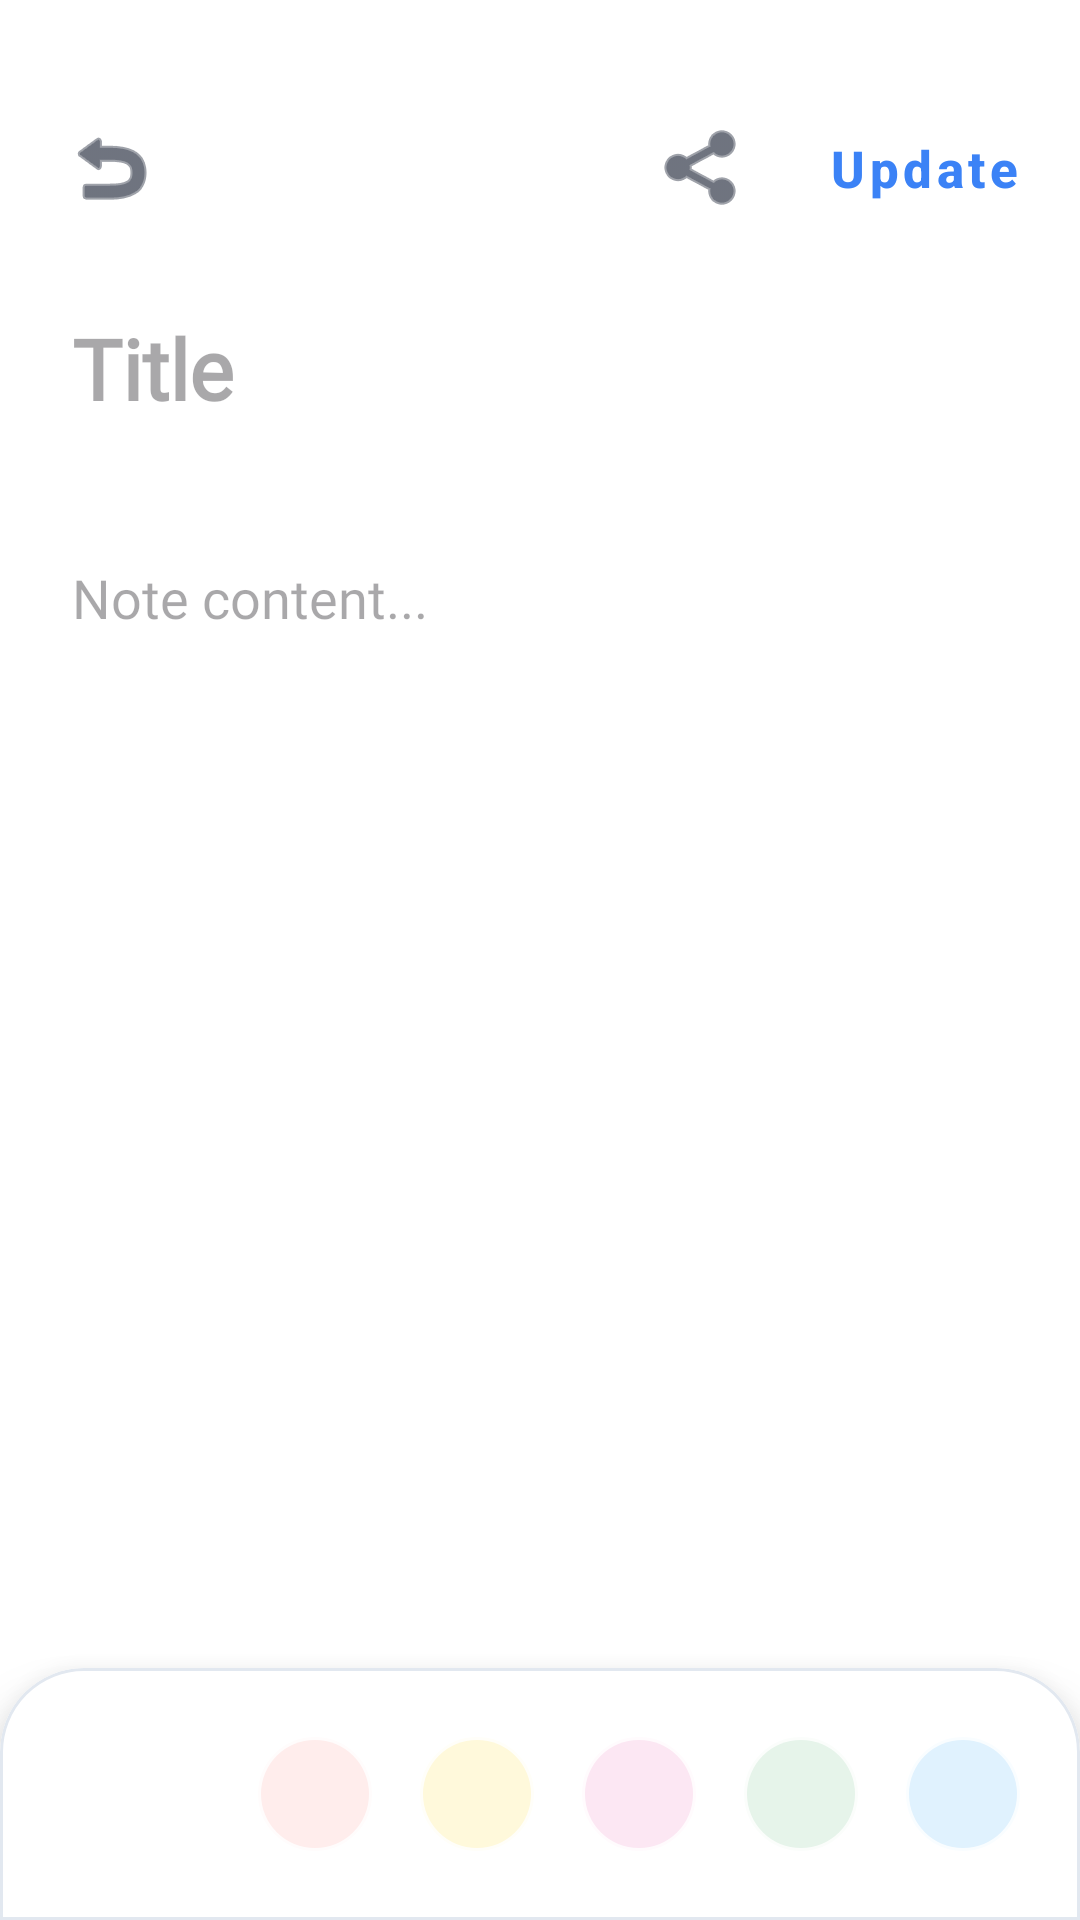

Icon click points for this 1080 x 1920 phone screenshot, format (x=x, y=y):
Back: (x=112, y=168)
Share Note: (x=700, y=167)
